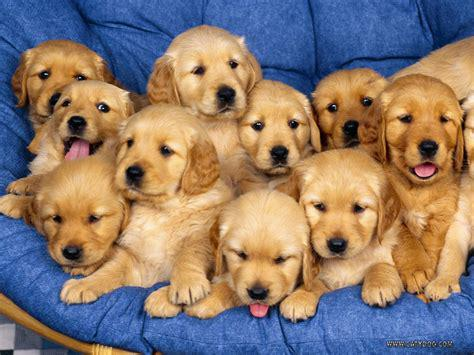dog: (59, 110, 220, 303), (375, 74, 463, 295), (293, 149, 403, 308), (211, 190, 316, 315), (146, 25, 263, 121), (28, 162, 128, 269), (30, 80, 136, 173), (237, 74, 321, 180), (12, 39, 113, 126), (311, 69, 389, 153)
